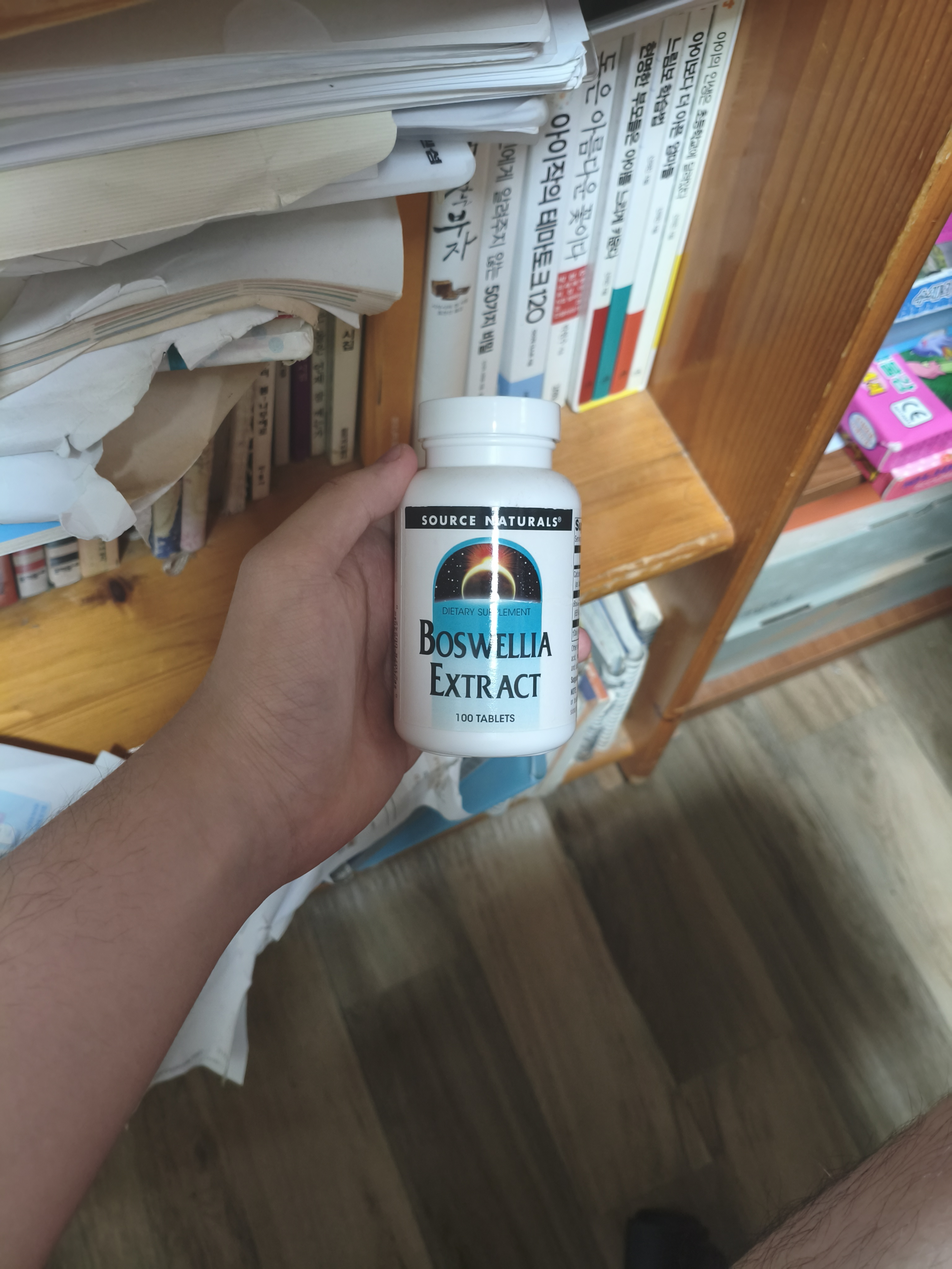supplement_label: (387, 489, 584, 762)
